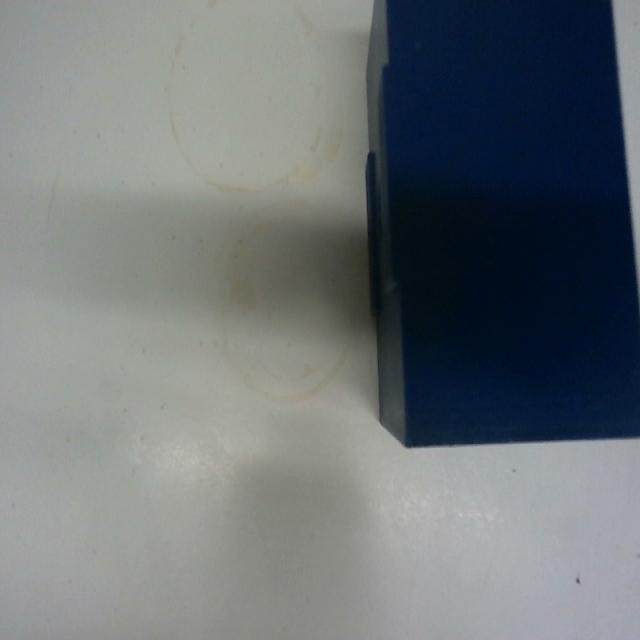Blue Cuboid: (362, 0, 639, 449)
